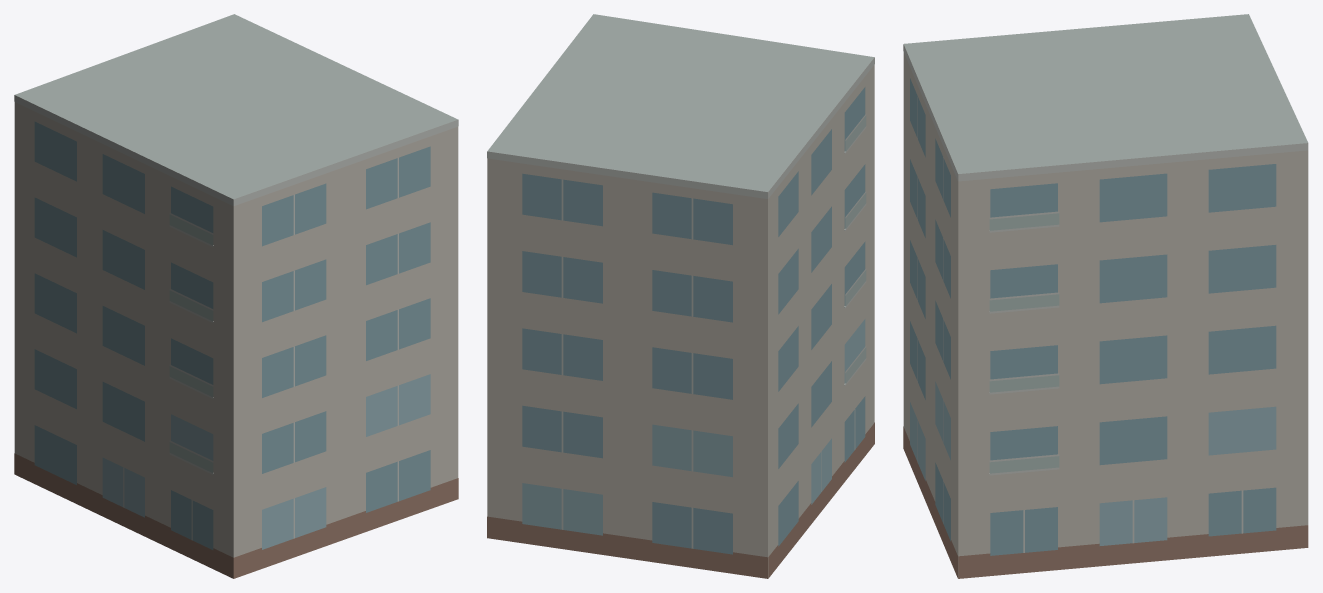
The model's file is survey-upis-32944211.glb.
The picture shows the model from 3 angles, left to right: view 1: azimuth 30°, elevation 25°; view 2: azimuth 150°, elevation 25°; view 3: azimuth 270°, elevation 25°; orthographic projection. The views are drawn at different scales.
Parts seen in each view (by area): view 1: survey-upis-32944211.tmp; view 2: survey-upis-32944211.tmp; view 3: survey-upis-32944211.tmp.
Boxes of the visible parts, x1,y1,x2,y2 form: survey-upis-32944211.tmp: [14, 14, 458, 578]; survey-upis-32944211.tmp: [487, 14, 874, 578]; survey-upis-32944211.tmp: [903, 14, 1308, 578].
Size of the model in its own units: 11.47 by 13.5 by 12.25.
